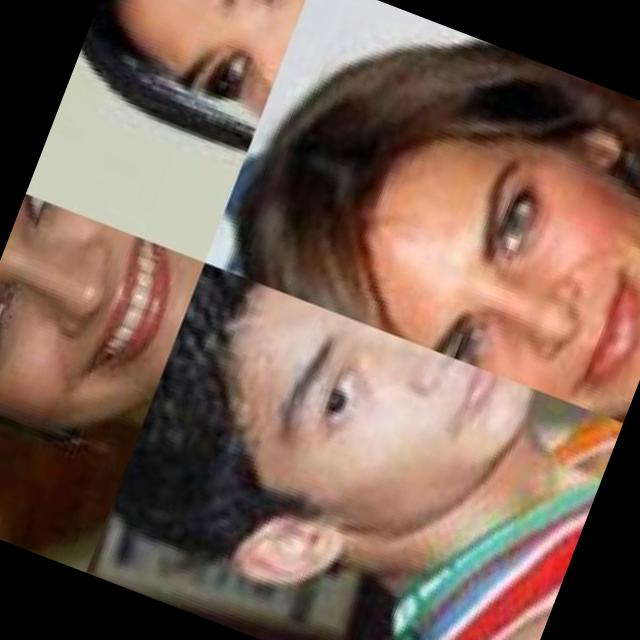bareface: (262, 0, 640, 432)
